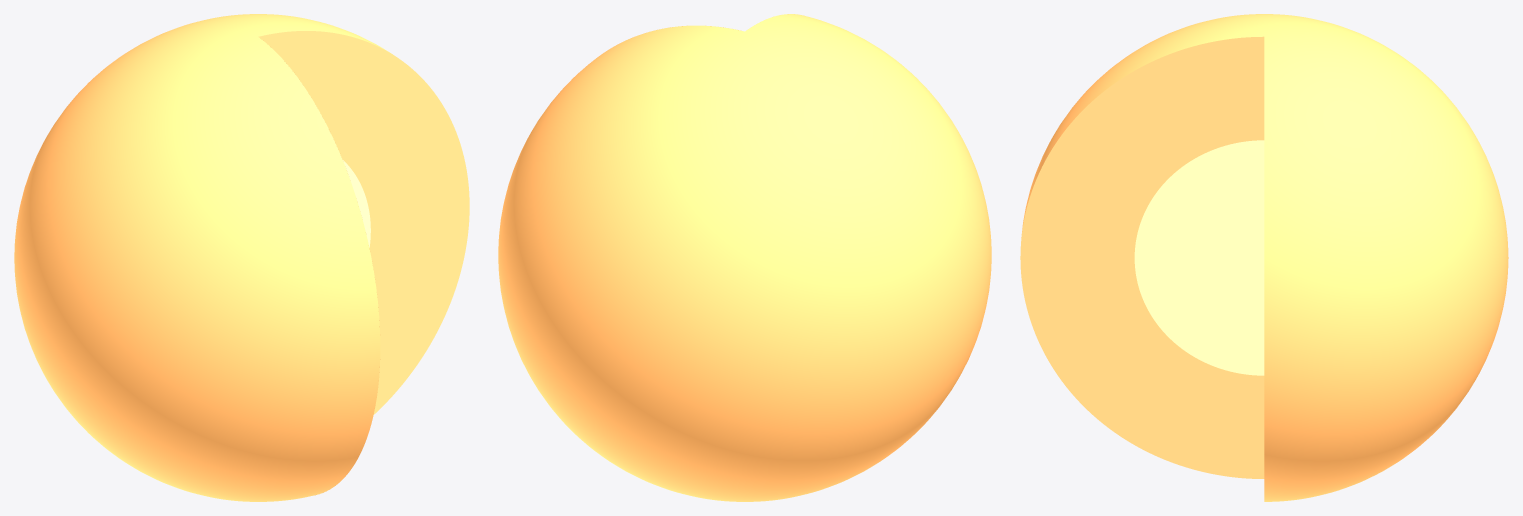
The model's file is measured-inner-core.glb.
3 renders of one model, left to right at view 1: azimuth 30°, elevation 25°; view 2: azimuth 150°, elevation 25°; view 3: azimuth 270°, elevation 25°, orthographic.
Parts seen in each view (by area): view 1: inner core, cut face z (×2); view 2: inner core; view 3: inner core, cut face x (×2).
Part boxes in pixels (x1,y1,x2,y2): inner core: [14, 14, 392, 501]; cut face z (×2): [258, 31, 469, 414]; inner core: [498, 14, 991, 501]; inner core: [1021, 14, 1508, 501]; cut face x (×2): [1020, 36, 1264, 478].
Bounding box in the file's own units: 2443 × 2443 × 2443.
